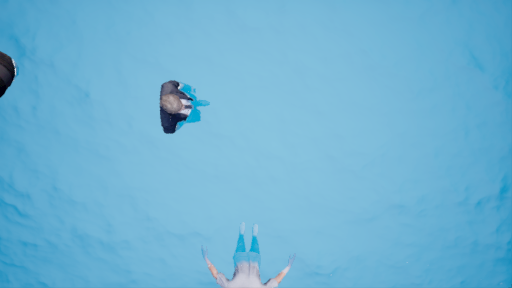person: (203, 225, 298, 288), (147, 76, 210, 143)
